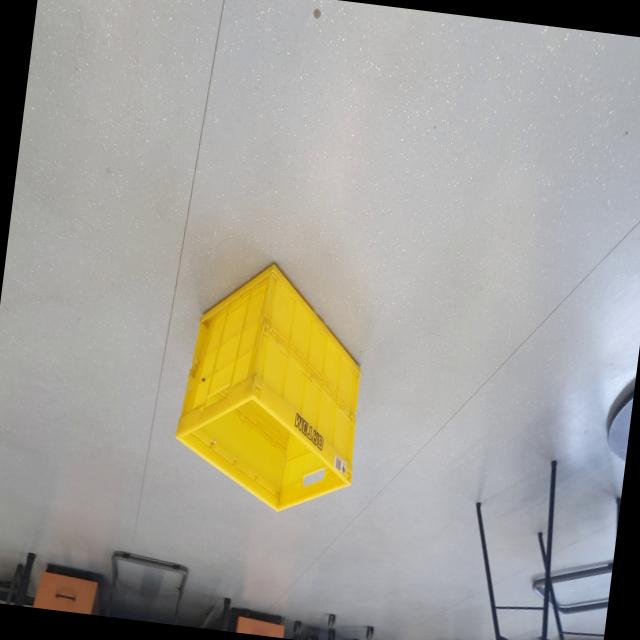box: (162, 236, 385, 530)
